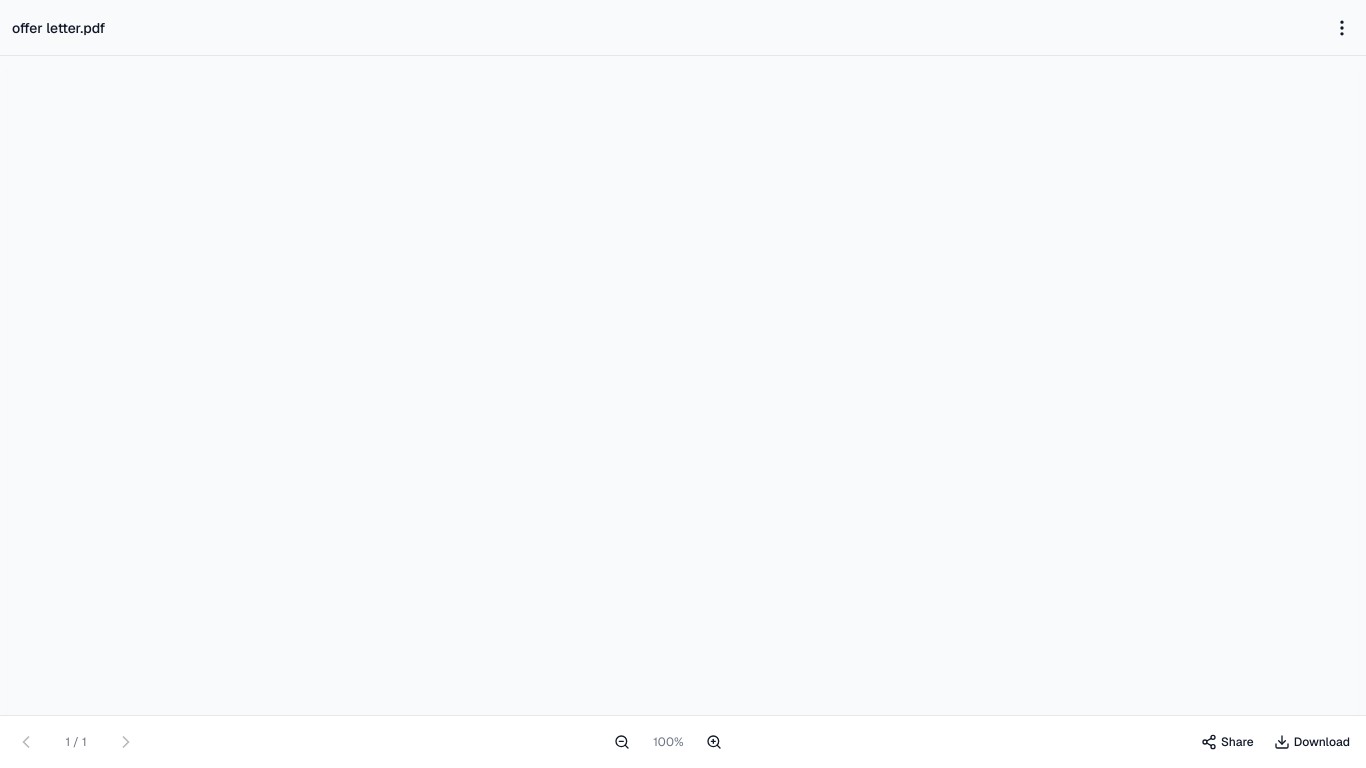
Test: PdfViewer — zoom › fit width resets zoom back to 100%
Expected: the text "1 / 1" is shown, 66,734 -> 86,750
Click the button named "Zoom in".
click(714, 742)  # box 696,724 -> 732,760
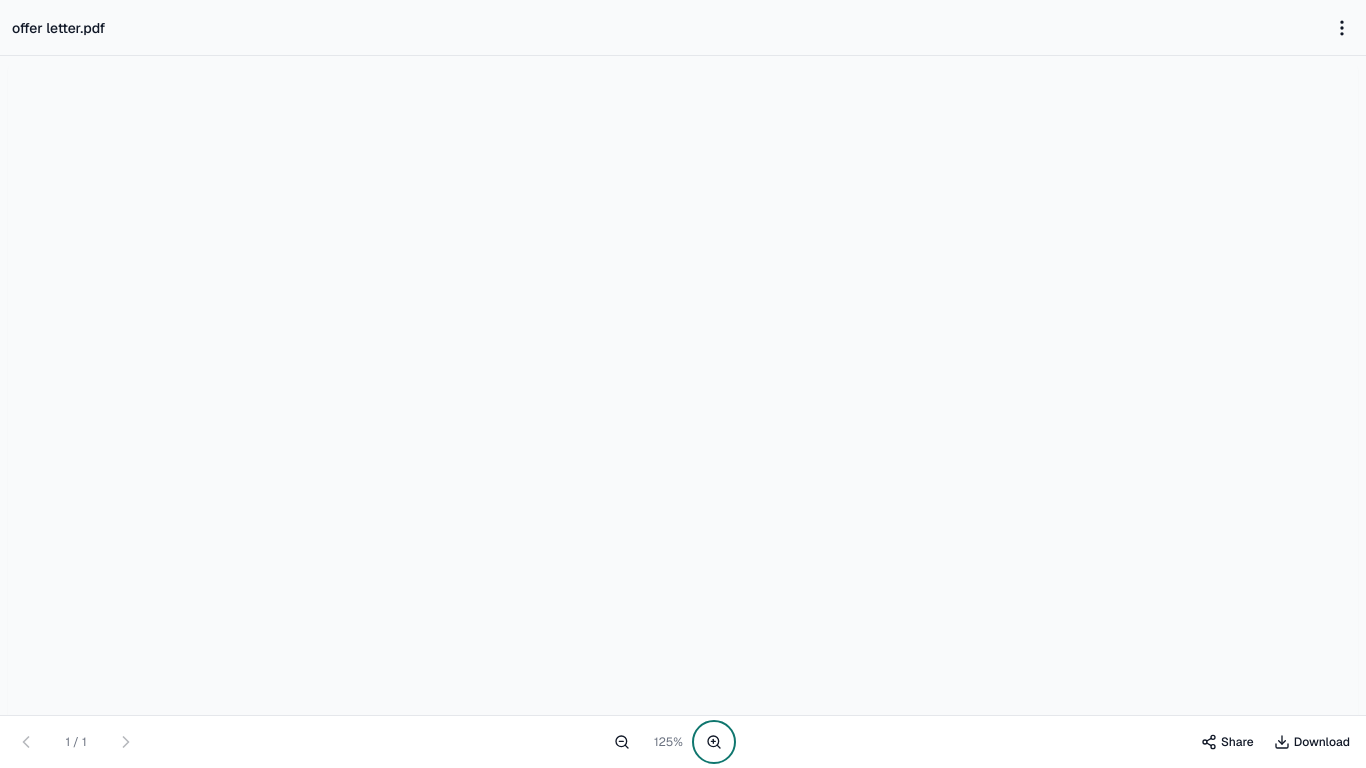
Click the button named "Zoom in".
click(714, 742)  # box 696,724 -> 732,760
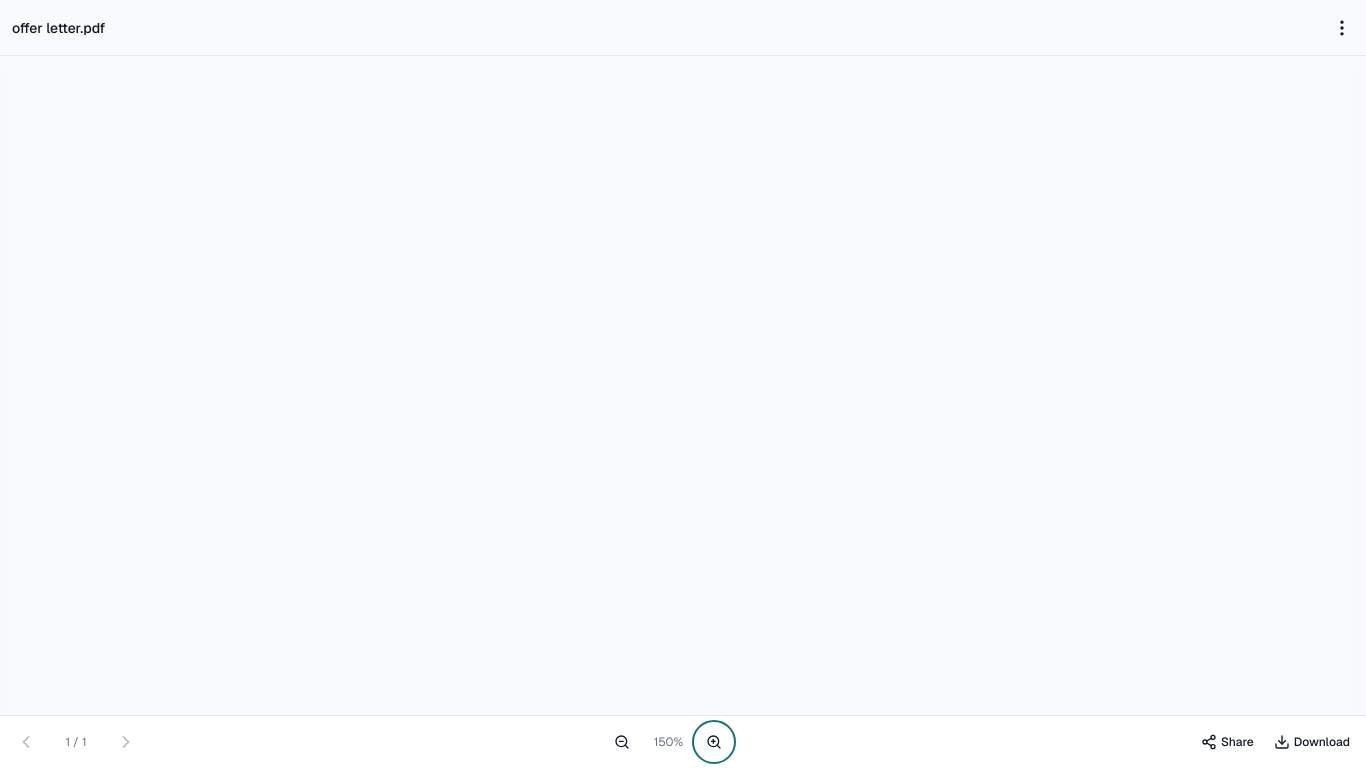
Result: the text "150%" is shown at 654,734 -> 683,750
Click the button named "More".
click(1342, 28)  # box 1322,8 -> 1362,48
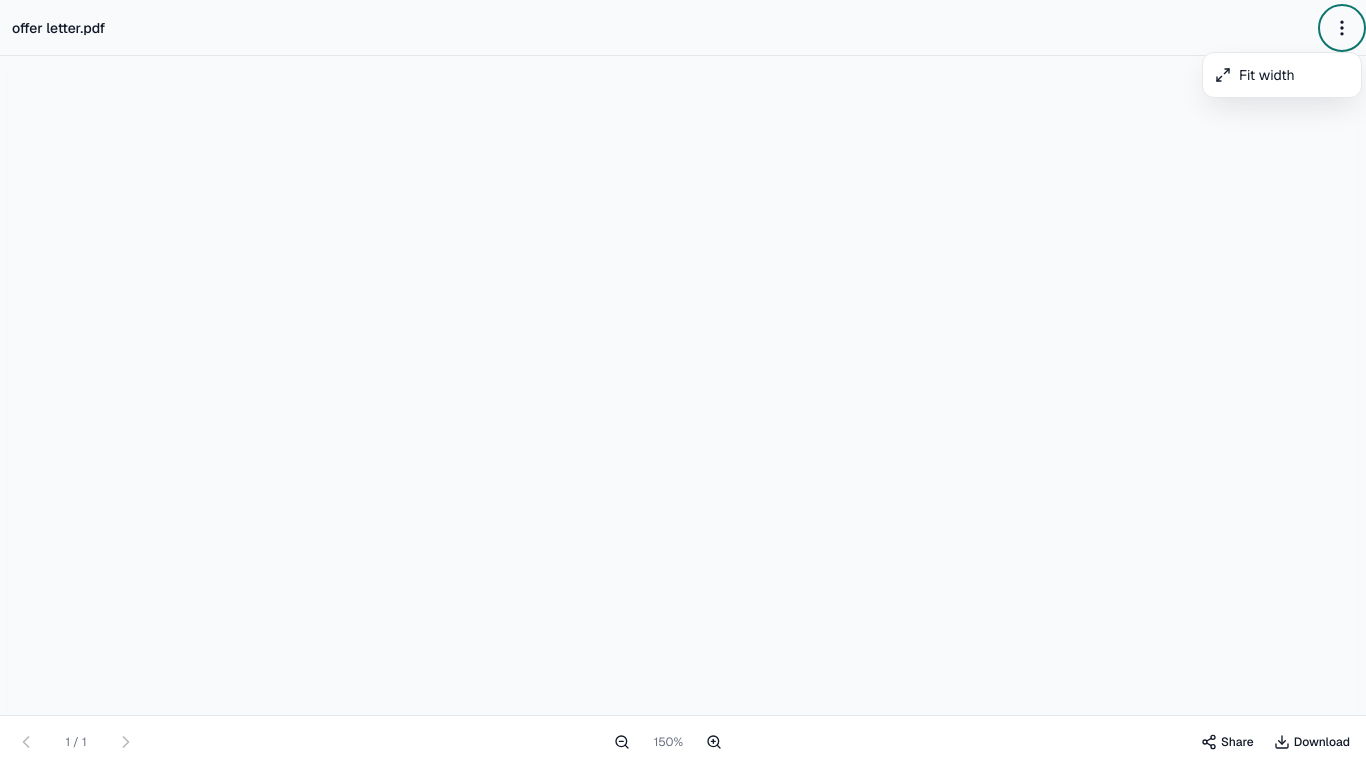
Click the button "Fit width".
click(1282, 74)  # box 1203,56 -> 1361,92
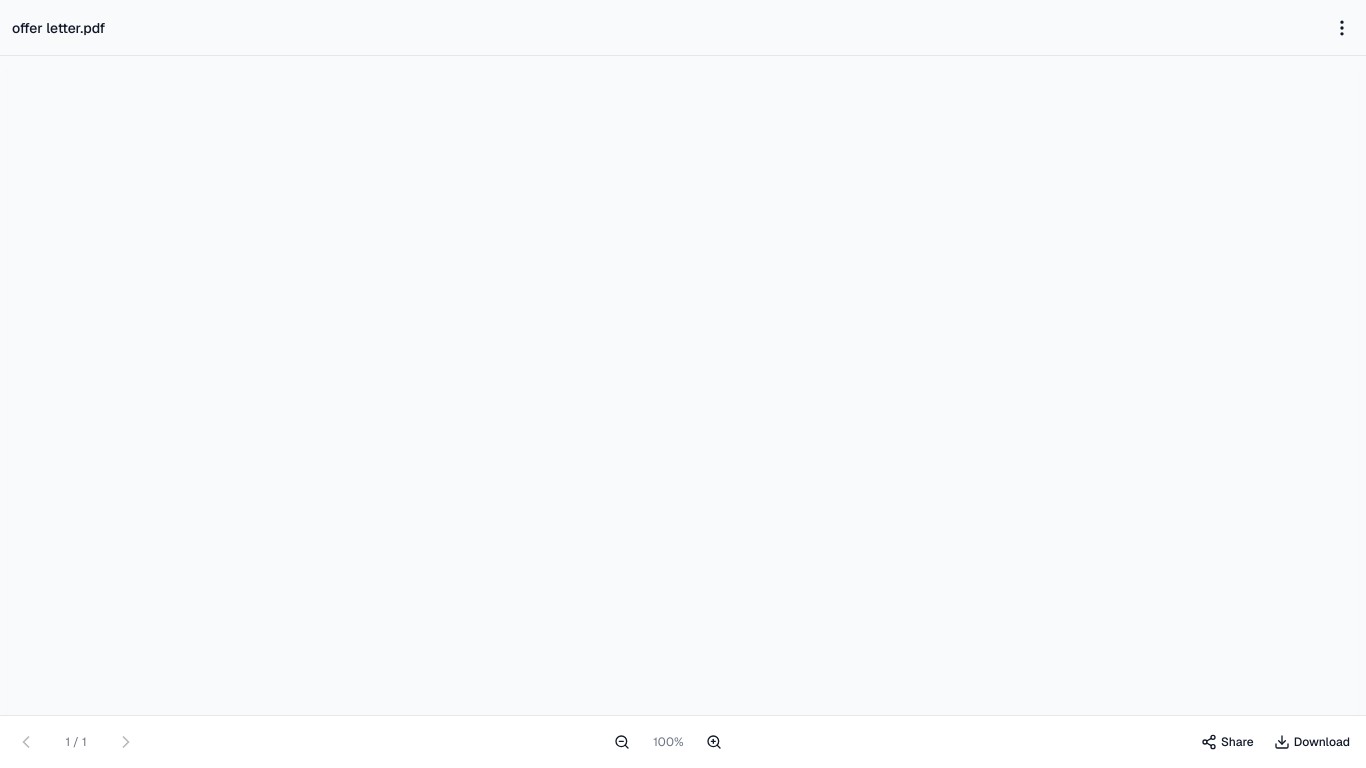
Result: the text "100%" is shown at 653,734 -> 684,750
